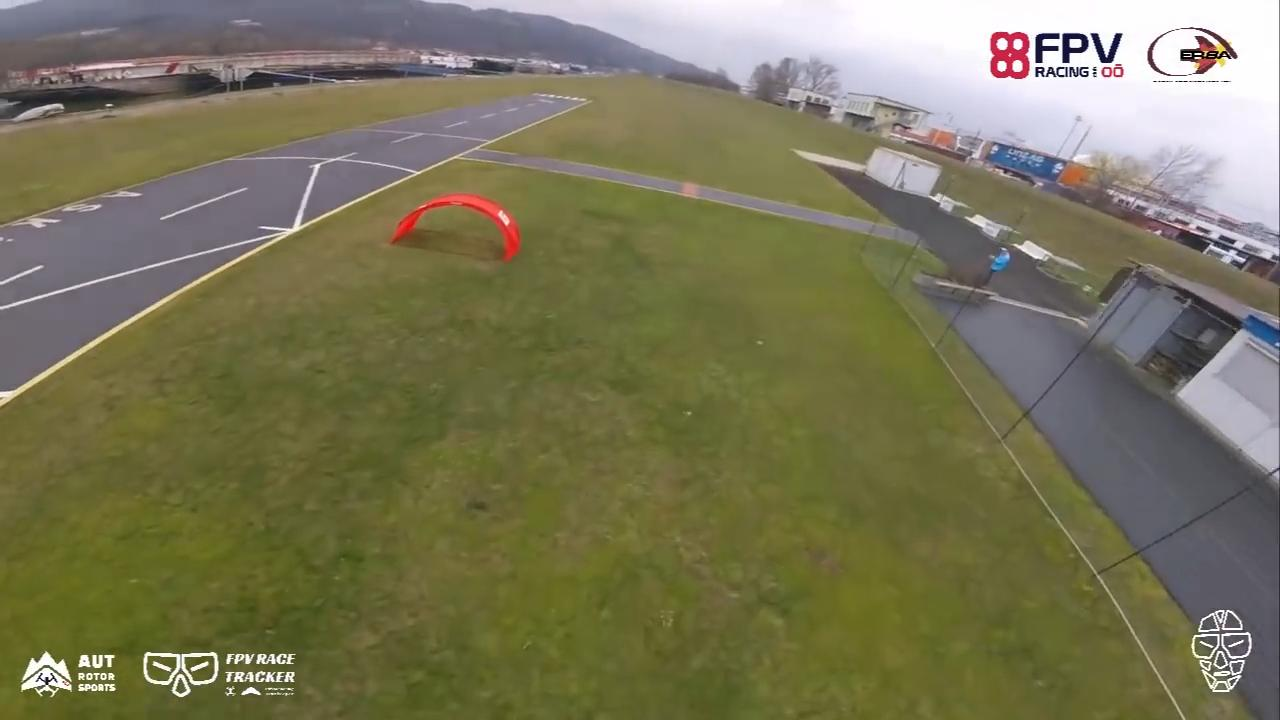gate: (388, 194, 524, 270)
